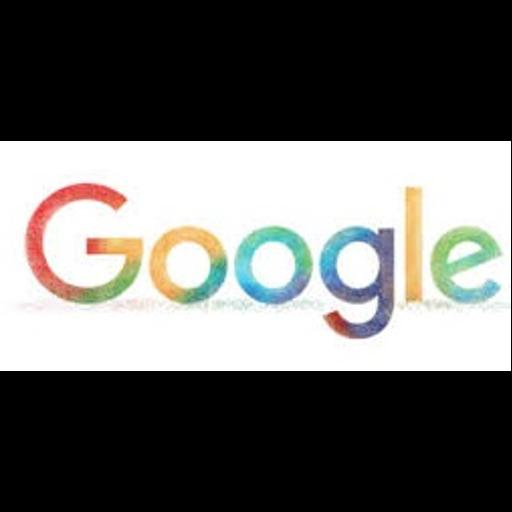Google: (0, 141, 511, 371)
